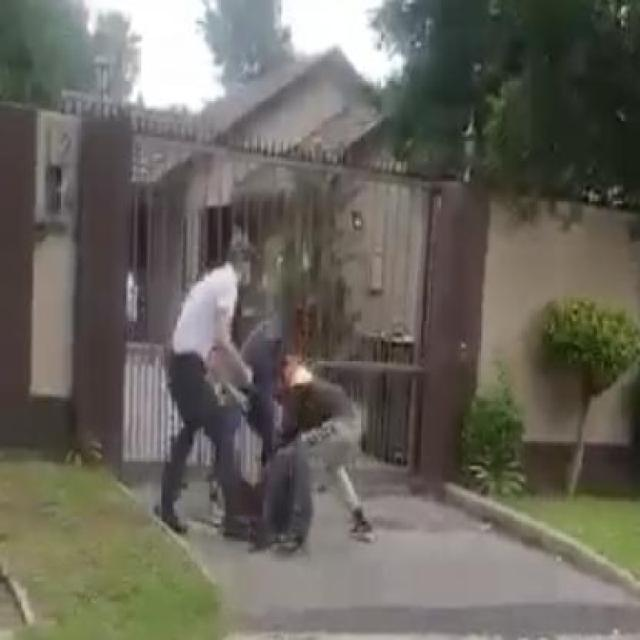fight: (145, 217, 467, 640)
